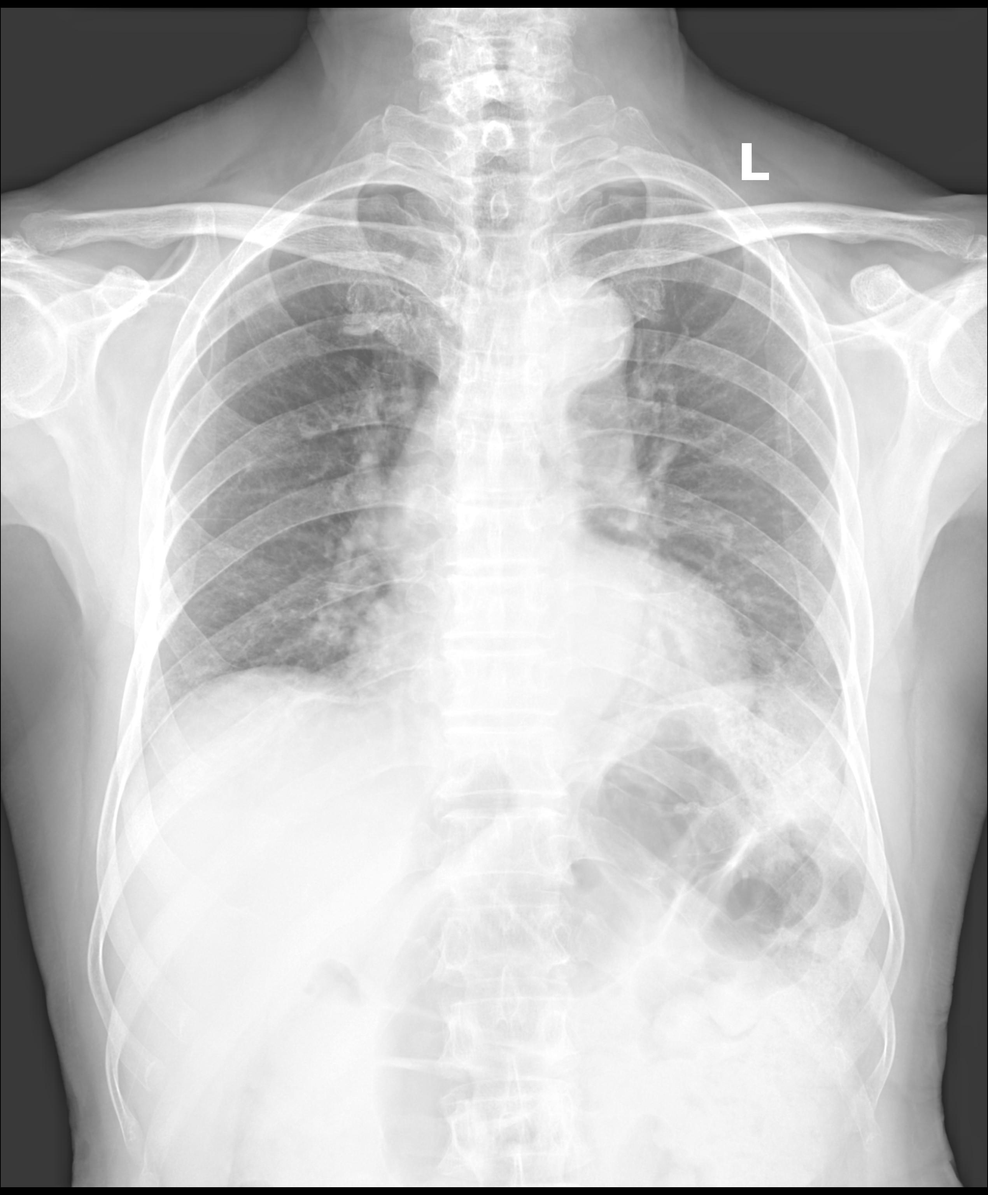Aortic enlargement: (505, 276, 635, 381)
Cardiomegaly: (337, 576, 762, 725)
